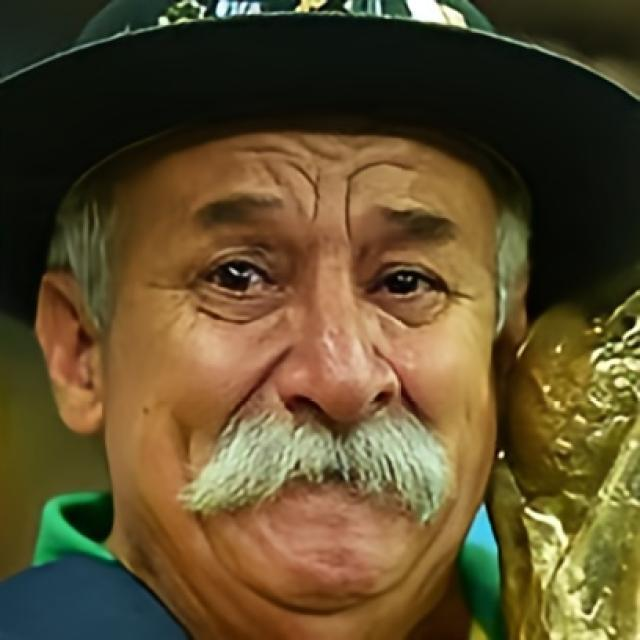sad: (107, 97, 500, 632)
